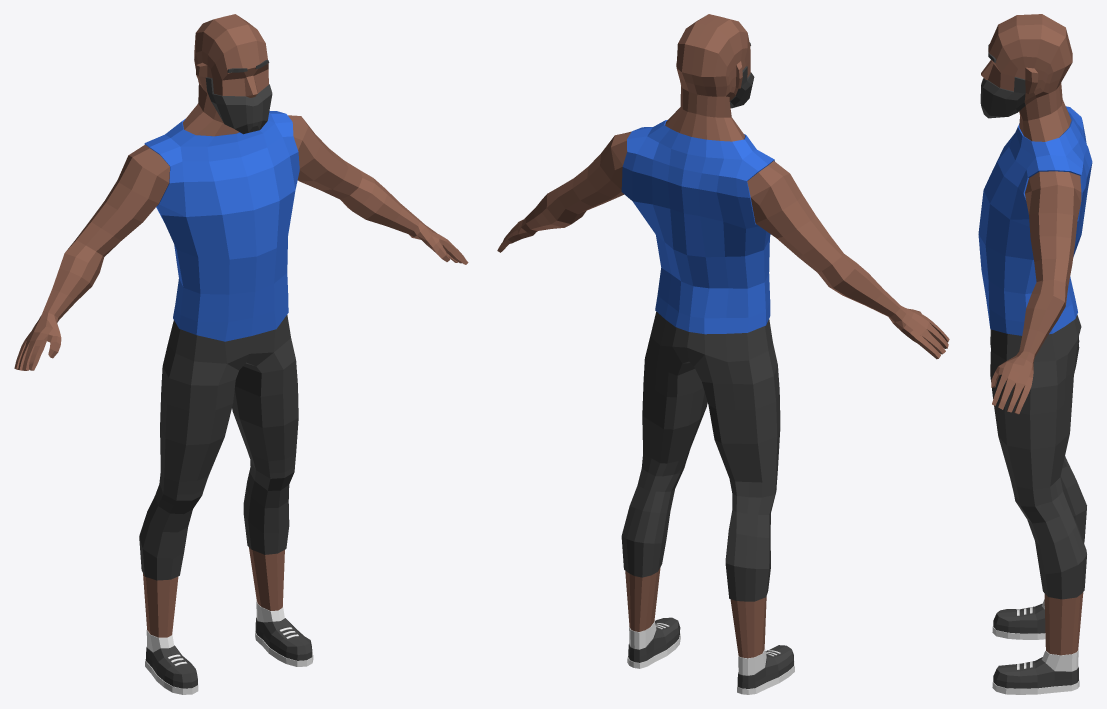
The model's file is scene_ZsG62dzAhz.glb.
3 renders of one model, left to right at view 1: azimuth 30°, elevation 25°; view 2: azimuth 150°, elevation 25°; view 3: azimuth 270°, elevation 25°, orthographic.
Parts seen in each view (by area): view 1: character1; view 2: character1; view 3: character1.
Part boxes in pixels (x1,y1,x2,y2): character1: (14, 14, 468, 694); character1: (497, 14, 949, 694); character1: (978, 14, 1092, 694).
Size of the model in its own units: 1.33 by 1.85 by 0.2977.
